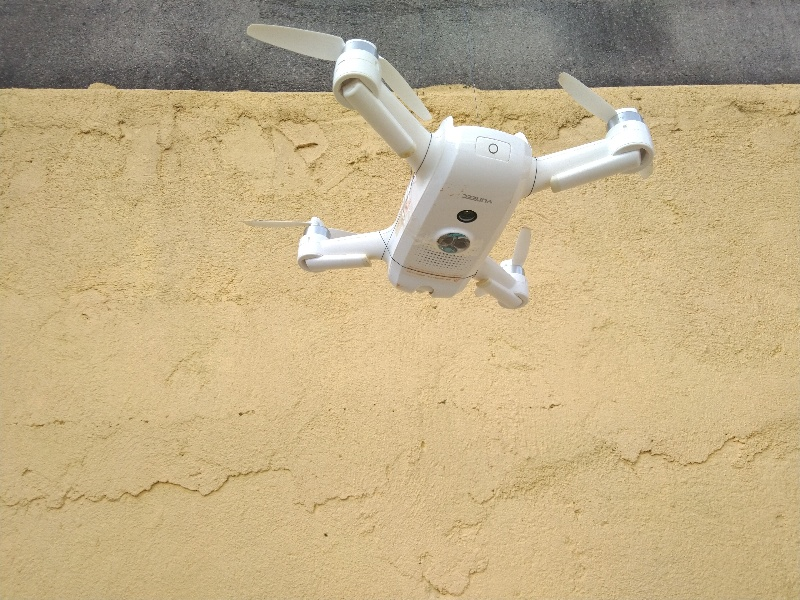drone: (233, 18, 661, 316)
